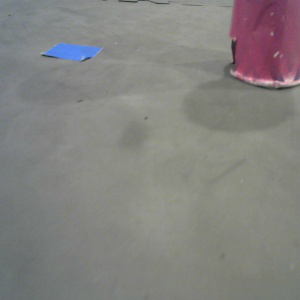right: (228, 1, 300, 90)
